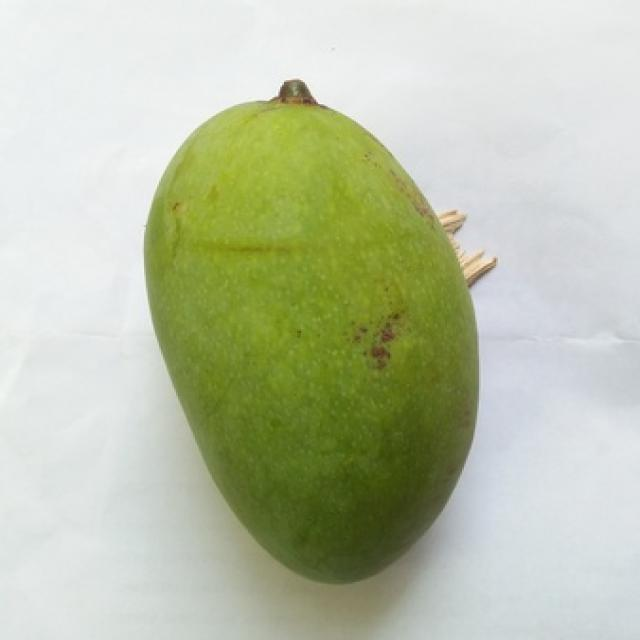Mango: (144, 80, 477, 580)
